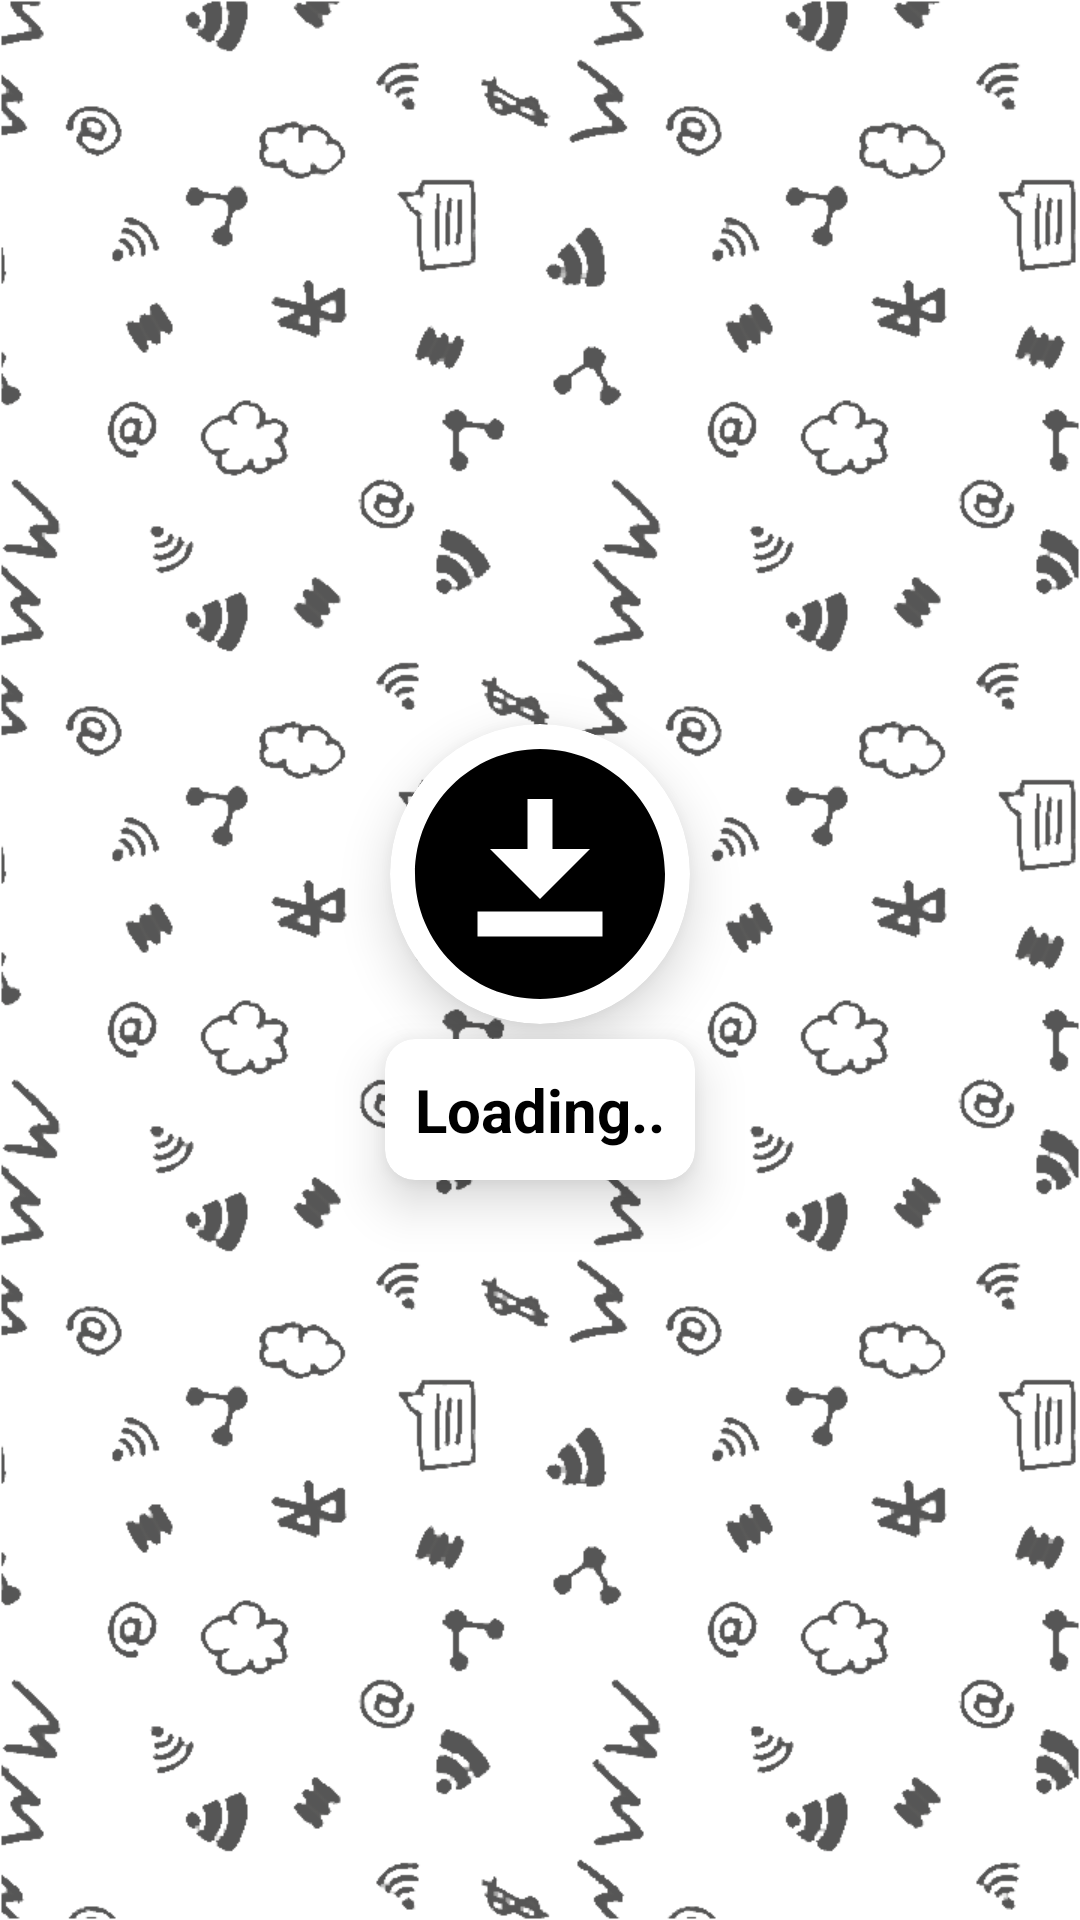

Named icons in this screenshot (1080*1920) and their bounding boxes, (x1, y1, x2, y2):
download: (397, 749, 683, 999)
